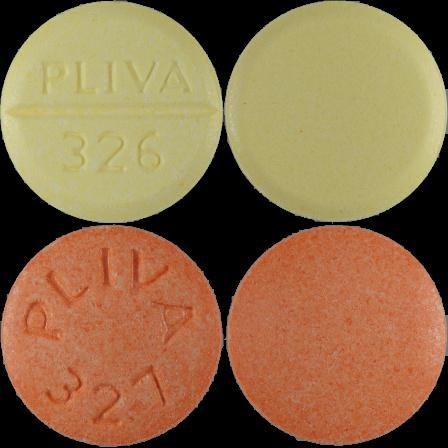50111-326: (0, 0, 224, 224)
